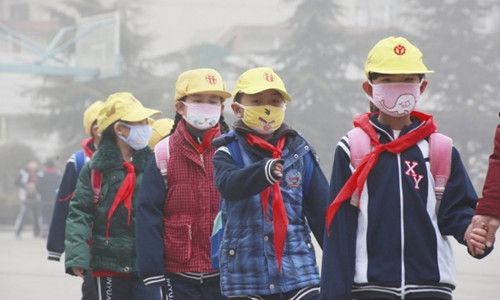OK: (373, 70, 419, 116), (244, 89, 286, 133), (185, 91, 224, 130), (124, 116, 155, 147)
